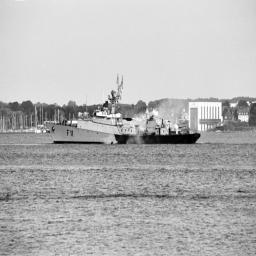Fragata: (43, 65, 204, 148)
